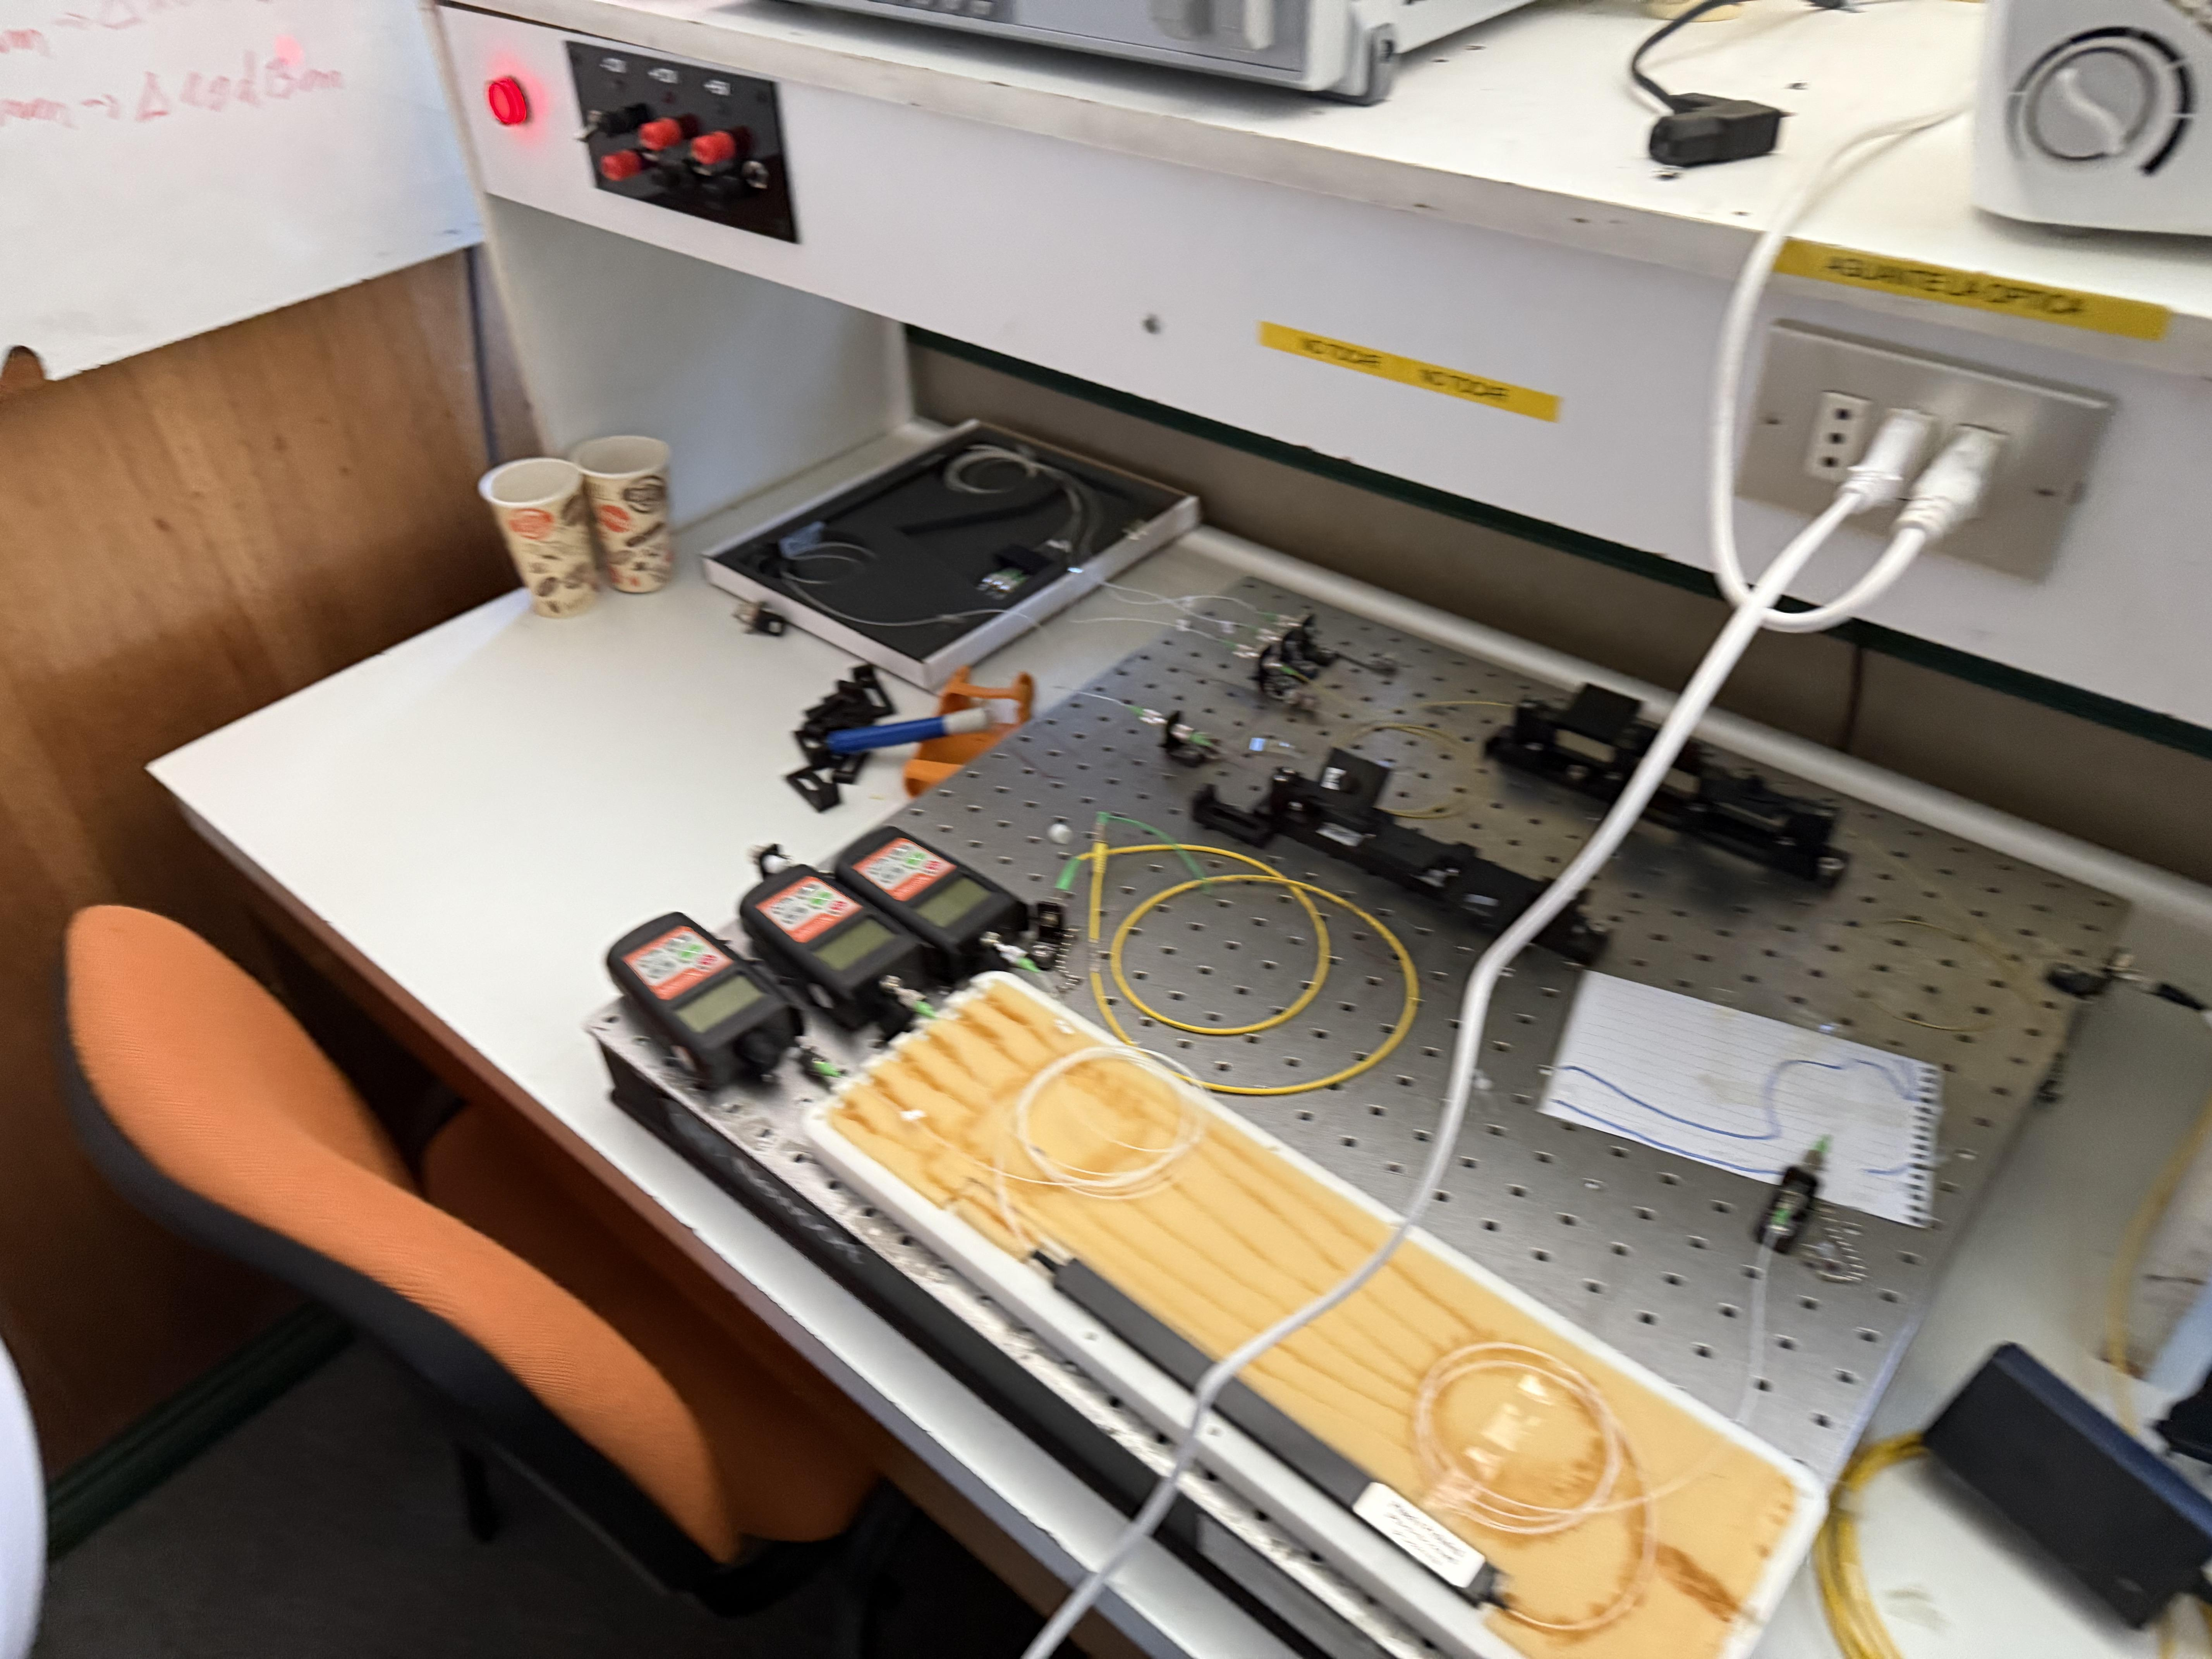fiber_cable: (1054, 840, 1426, 1112)
paddle_polarization_controller: (1179, 711, 1615, 985), (1477, 671, 1850, 908)
powermeter: (594, 824, 1069, 1108)
